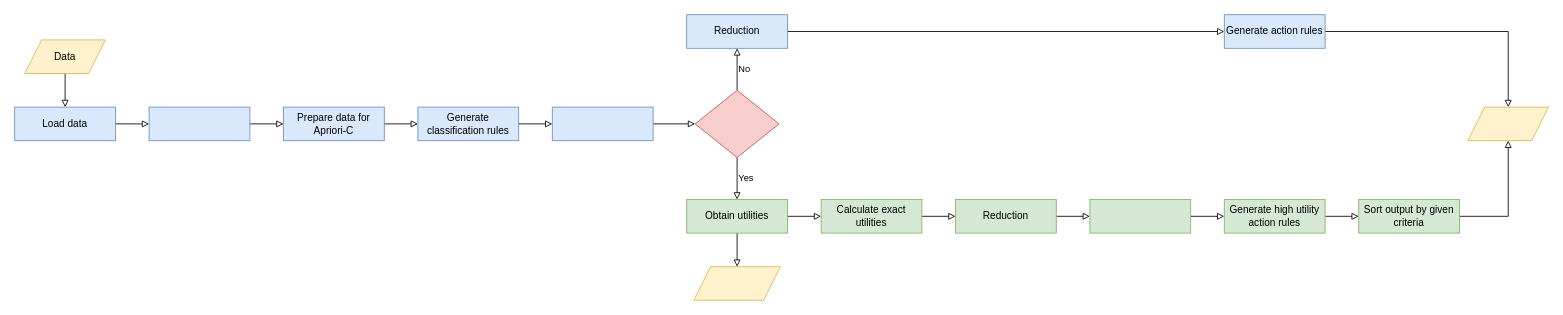
The diagram is 1563 pixels wide and 315 high, and some of its shapes have lost their labels. Each missing label, with the centre of its shape:
"Action rules" belongs at pixel 1508 123.
"Generate decision table" belongs at pixel 602 123.
"Prune candidate pairs" belongs at pixel 1140 216.
"Use utility?" belongs at pixel 736 123.
"Utility source" belongs at pixel 736 283.
"Validate data" belongs at pixel 199 123.
